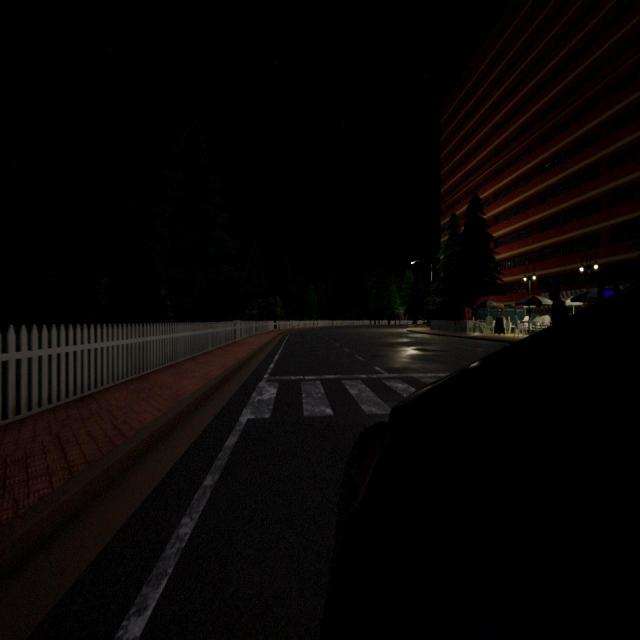Vehicle: (321, 288, 640, 640)
